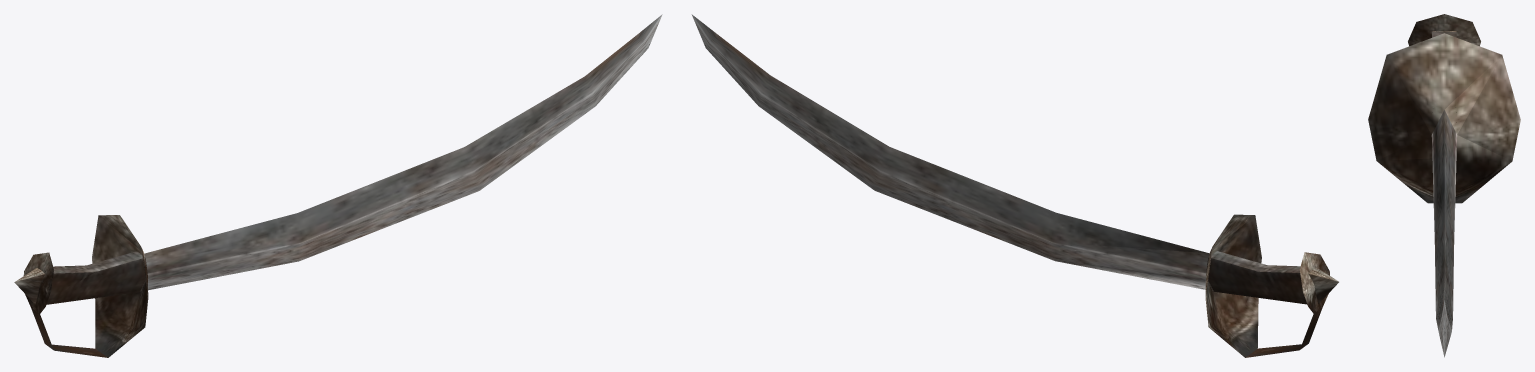
Rendered from shop_bsmith_cutlass.fbx.
The picture shows the model from 3 angles, left to right: view 1: azimuth 30°, elevation 25°; view 2: azimuth 150°, elevation 25°; view 3: azimuth 270°, elevation 25°; orthographic projection. The views are drawn at different scales.
Parts seen in each view (by area): view 1: cutlass; view 2: cutlass; view 3: cutlass.
Part boxes in pixels (<box>): cutlass: <box>14,14,662,357</box>; cutlass: <box>691,14,1338,357</box>; cutlass: <box>1368,14,1520,357</box>.
Size of the model in its own units: 325 by 96.96 by 48.9.
1 material, 1 textured.
